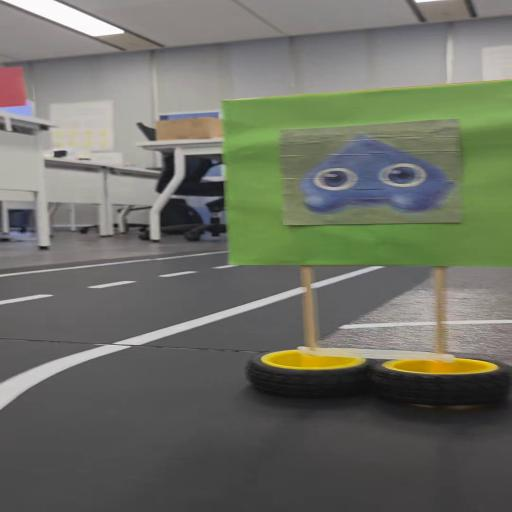Sign_B: (212, 77, 512, 411)
